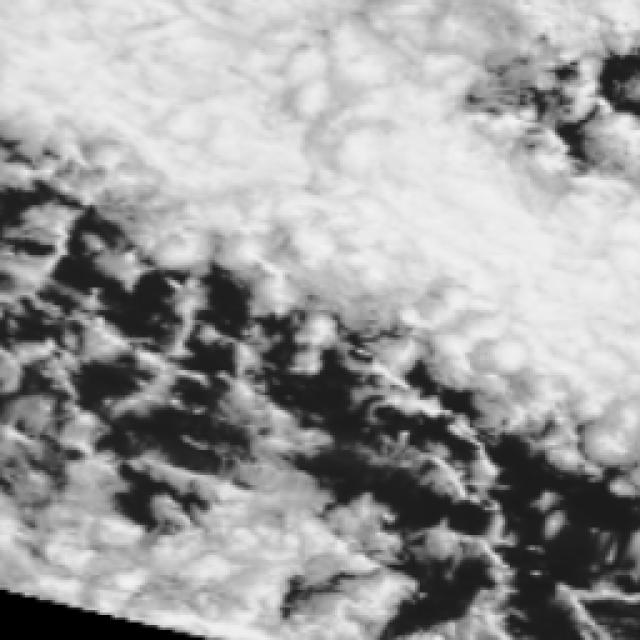CB: (6, 2, 401, 137), (284, 146, 504, 279), (495, 232, 640, 369)
